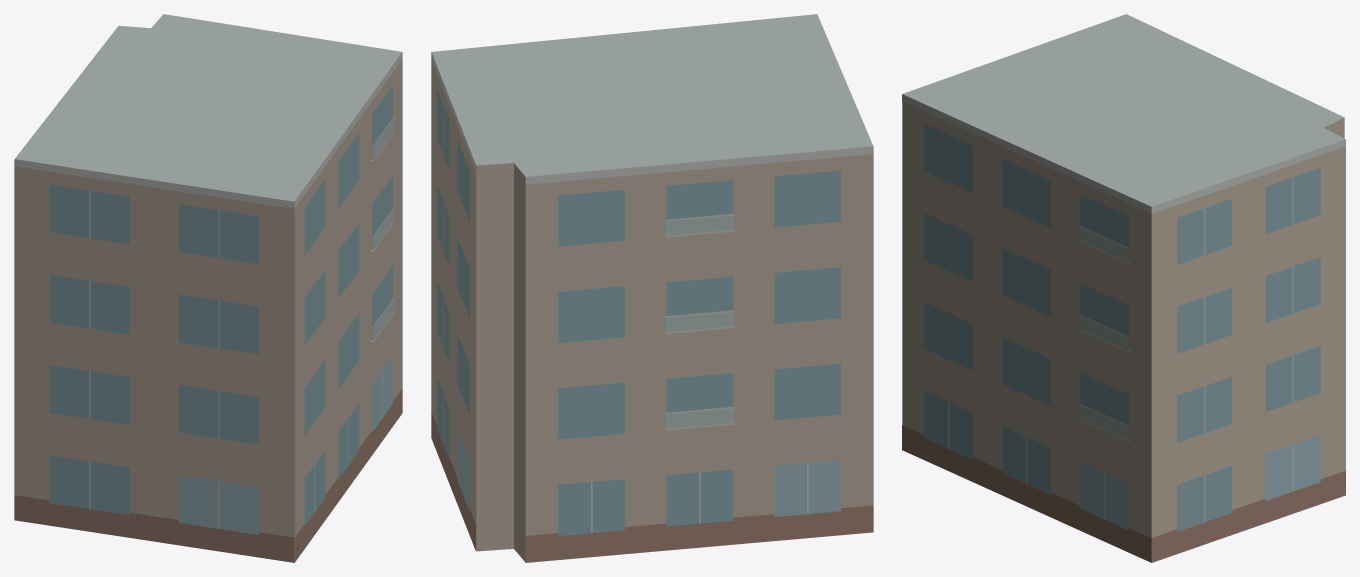
Rendered from survey-upis-32627136.glb.
3 views of the same model, side by side, from view 1: azimuth 30°, elevation 25°; view 2: azimuth 150°, elevation 25°; view 3: azimuth 270°, elevation 25° (orthographic). The views are drawn at different scales.
Parts seen in each view (by area): view 1: survey-upis-32627136.tmp; view 2: survey-upis-32627136.tmp; view 3: survey-upis-32627136.tmp.
Part boxes in pixels (box(x1,y1,x2,y2)): survey-upis-32627136.tmp: box(14, 14, 402, 562); survey-upis-32627136.tmp: box(431, 14, 873, 562); survey-upis-32627136.tmp: box(902, 14, 1345, 562).
Size of the model in its own units: 14.18 by 12.2 by 13.79.
